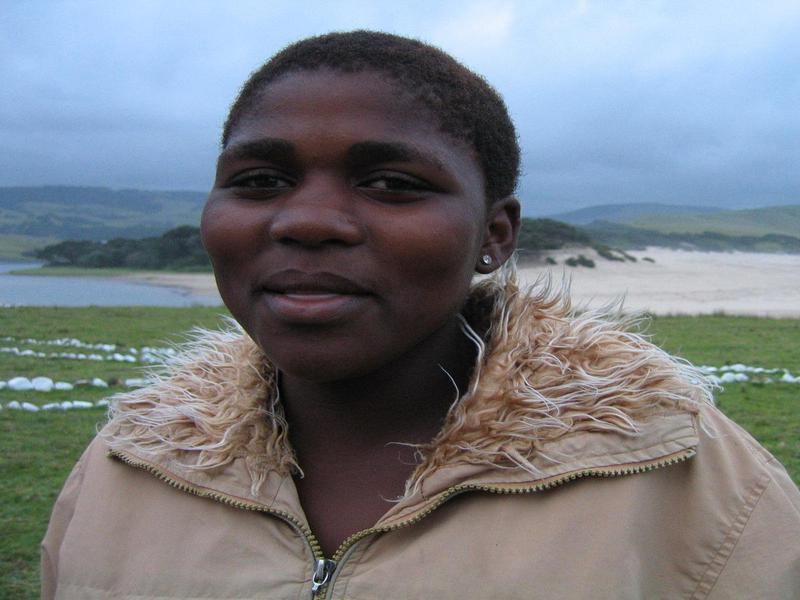person: (45, 28, 800, 595)
